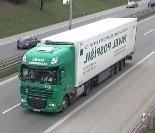car: (17, 36, 40, 51), (126, 3, 139, 8)
truck: (18, 18, 137, 115)
